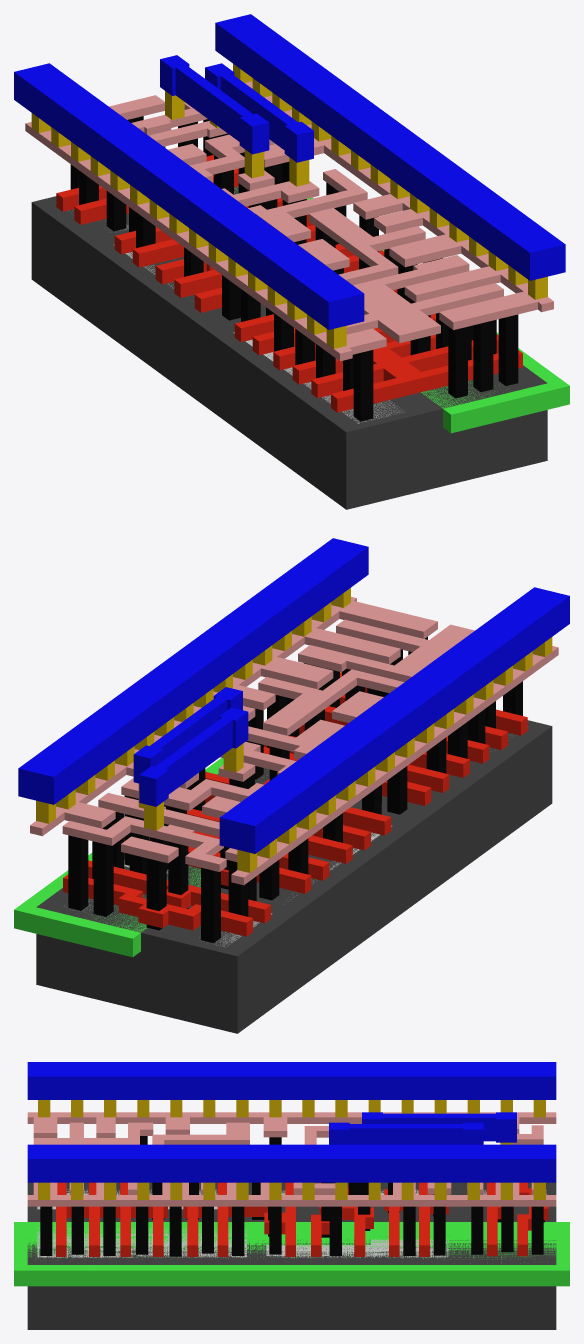
Rendered from sky130_fd_sc_hd__dlrtp_4.obj.
3 views of the same model, one above another, from view 1: azimuth 30°, elevation 25°; view 2: azimuth 150°, elevation 25°; view 3: azimuth 270°, elevation 25° (orthographic). The views are drawn at different scales.
Visible parts, largest first — view 1: metal1, subs, li, licon, poly, mcon, nwell, diff; view 2: metal1, subs, li, licon, poly, mcon, nwell; view 3: metal1, subs, nwell, li, licon, poly, mcon, tap.
Part boxes in pixels (bbox=[...]): metal1: bbox=[14, 14, 565, 329]; subs: bbox=[31, 186, 547, 509]; li: bbox=[25, 81, 553, 361]; licon: bbox=[70, 116, 518, 421]; poly: bbox=[56, 155, 522, 412]; mcon: bbox=[31, 64, 547, 348]; nwell: bbox=[234, 188, 569, 433]; diff: bbox=[68, 210, 404, 423]; metal1: bbox=[18, 538, 569, 853]; subs: bbox=[36, 720, 552, 1033]; li: bbox=[30, 597, 558, 885]; licon: bbox=[68, 636, 522, 942]; poly: bbox=[63, 672, 527, 936]; mcon: bbox=[36, 588, 552, 872]; nwell: bbox=[14, 672, 340, 957]; metal1: bbox=[27, 1062, 556, 1182]; subs: bbox=[27, 1182, 556, 1329]; nwell: bbox=[14, 1222, 569, 1286]; li: bbox=[27, 1112, 556, 1206]; licon: bbox=[40, 1136, 544, 1256]; poly: bbox=[56, 1182, 548, 1256]; mcon: bbox=[38, 1100, 545, 1199]; tap: bbox=[37, 1228, 448, 1257].
Bounding box in the file's own units: 3.2 × 2.74 × 7.74.
